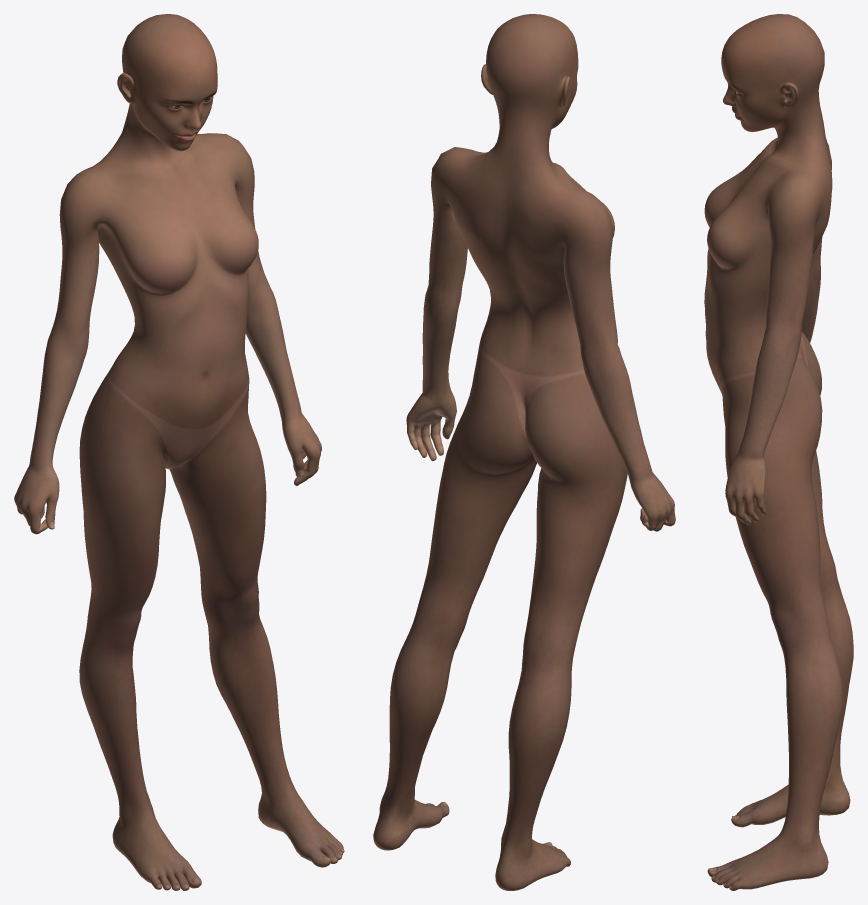
3 views of the same model, side by side, from view 1: azimuth 30°, elevation 25°; view 2: azimuth 150°, elevation 25°; view 3: azimuth 270°, elevation 25° (orthographic). The views are drawn at different scales.
Parts seen in each view (by area): view 1: mesh_character_s.001; view 2: mesh_character_s.001; view 3: mesh_character_s.001.
Boxes of the visible parts, <box> form: mesh_character_s.001: <box>14,14,344,890</box>; mesh_character_s.001: <box>373,14,675,890</box>; mesh_character_s.001: <box>704,14,853,890</box>.
Bounding box in the file's own units: 0.6405 × 1.77 × 0.2965.
Materials: 1 (1 with a texture image).
